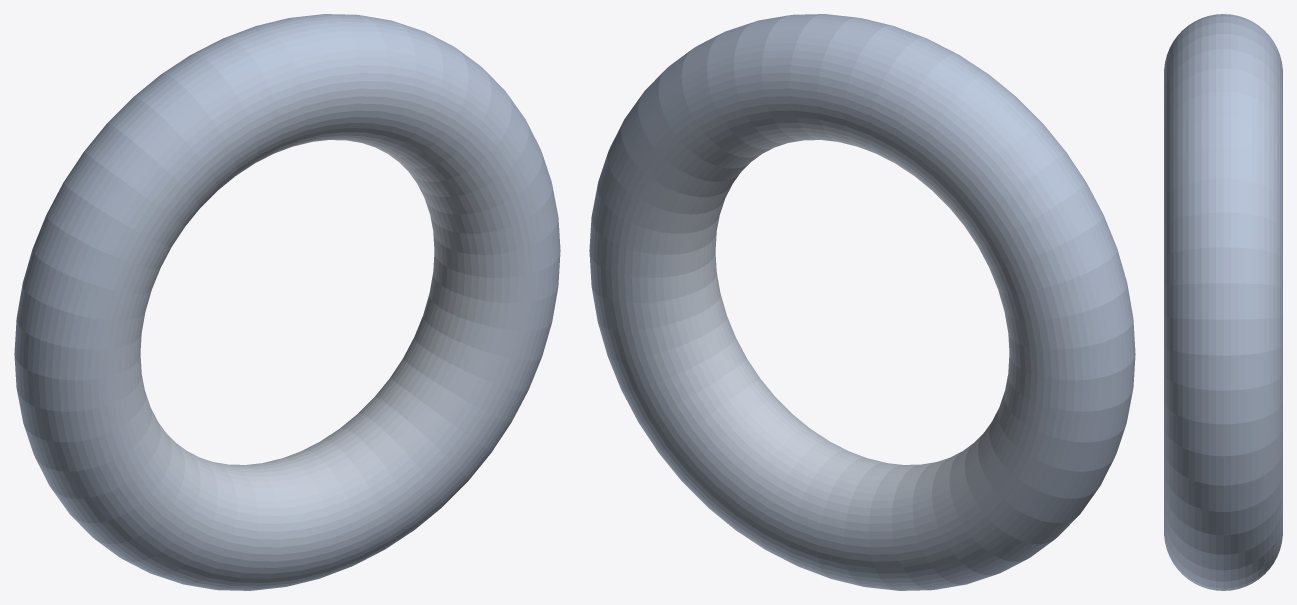
3 views of the same model, side by side, from view 1: azimuth 30°, elevation 25°; view 2: azimuth 150°, elevation 25°; view 3: azimuth 270°, elevation 25° (orthographic). The views are drawn at different scales.
Parts seen in each view (by area): view 1: world; view 2: world; view 3: world.
Boxes of the visible parts, x1,y1,x2,y2 form: world: (14,14,560,590); world: (589,14,1135,590); world: (1164,14,1282,590).
Bounding box in the file's own units: 25.2 × 25.15 × 5.19.
